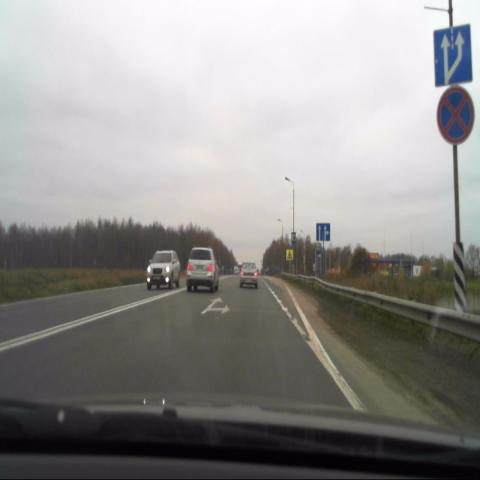3_27: (437, 89, 475, 145)
5_15_2_2: (316, 223, 329, 242)
